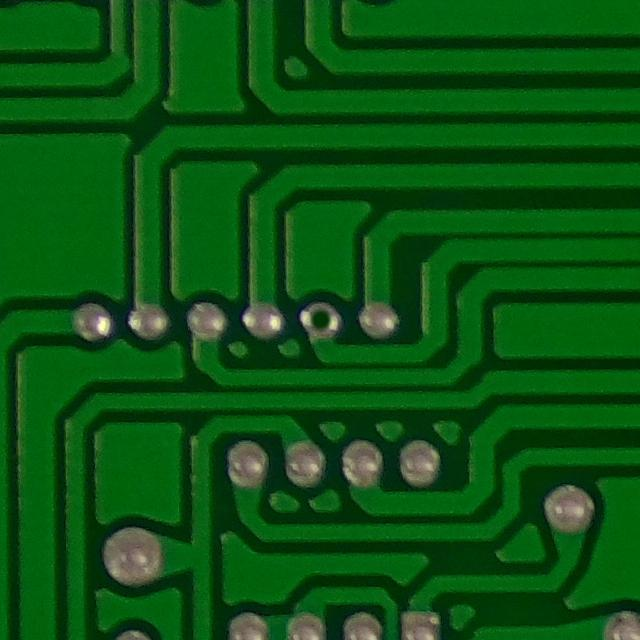missing_hole: (297, 295, 343, 345)
